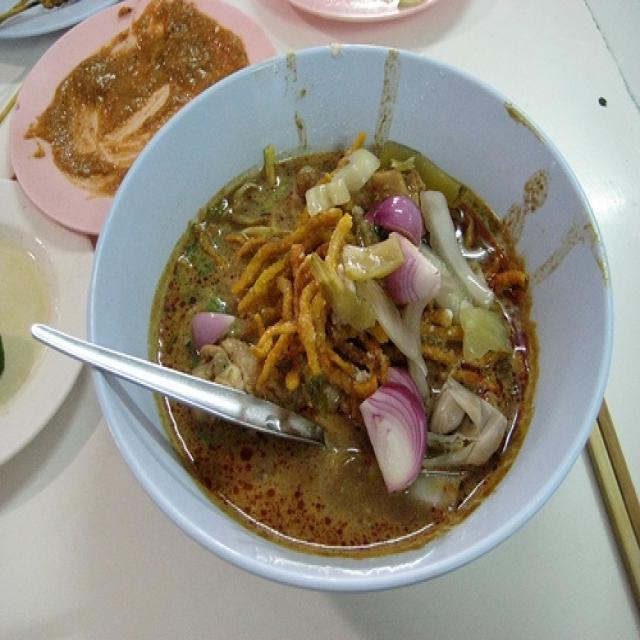面条主食: (89, 53, 603, 589)
